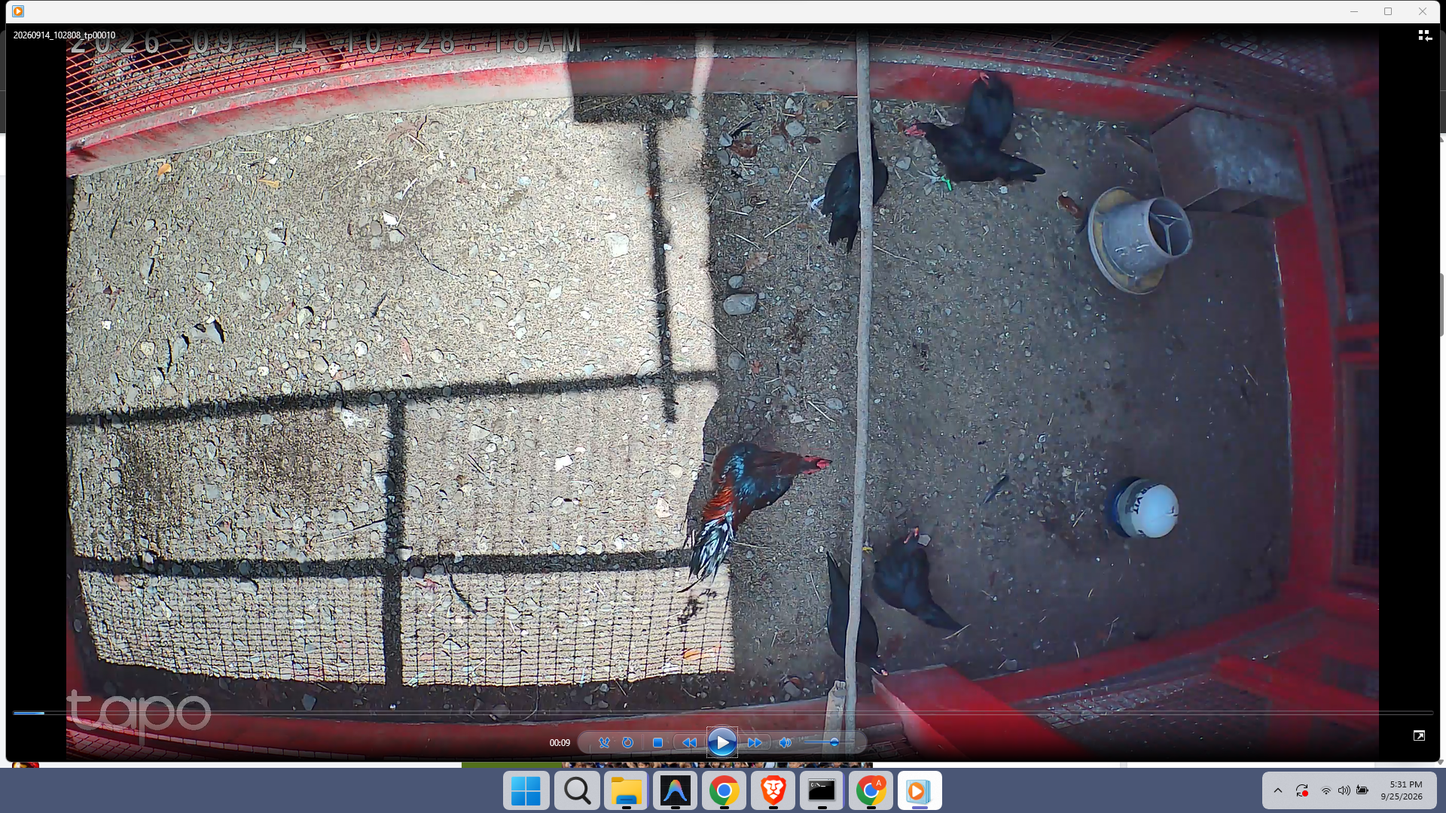Chicken: (862, 518, 972, 641), (798, 122, 888, 253), (813, 552, 895, 686), (896, 122, 1047, 191), (965, 67, 1015, 151)
Drinker: (1101, 473, 1190, 541)
Feeder: (1084, 185, 1195, 295)
Rooster: (677, 434, 829, 594)
